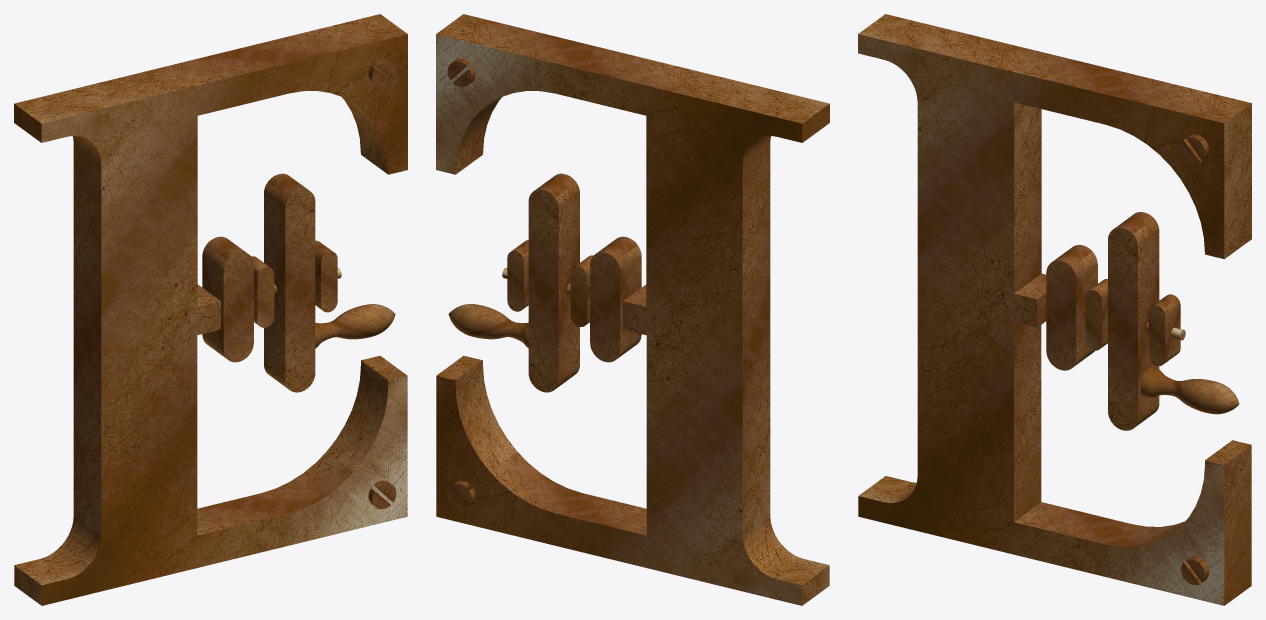
3 views of the same model, side by side, from view 1: azimuth 30°, elevation 25°; view 2: azimuth 150°, elevation 25°; view 3: azimuth 330°, elevation 25° (orthographic).
Parts seen in each view (by area): view 1: E, Screw_794, Screw_793; view 2: E, Screw_794, Screw_793; view 3: E, Screw_794, Screw_793.
Part boxes in pixels (x1,y1,x2,y2): E: (14,14,407,605); Screw_794: (368,480,396,509); Screw_793: (368,58,396,87); E: (436,14,829,605); Screw_794: (447,480,475,509); Screw_793: (447,58,475,87); E: (858,14,1251,605); Screw_794: (1181,556,1208,585); Screw_793: (1181,134,1208,162).
Size of the model in its own units: 77.16 by 96.87 by 12.89.
Materials: 1 (1 with a texture image).
